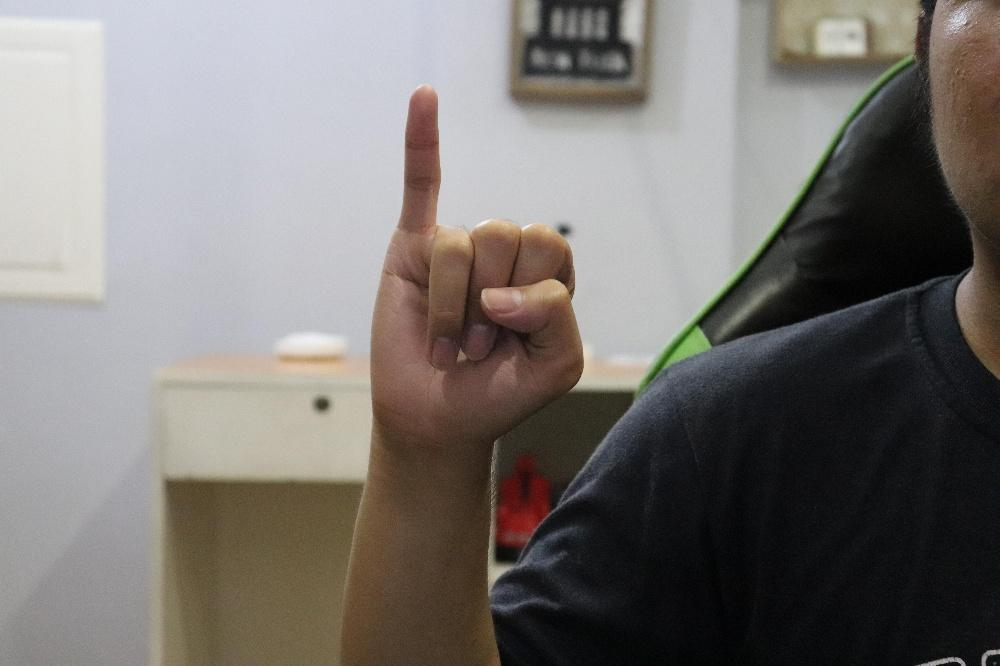i: (369, 81, 584, 450)
